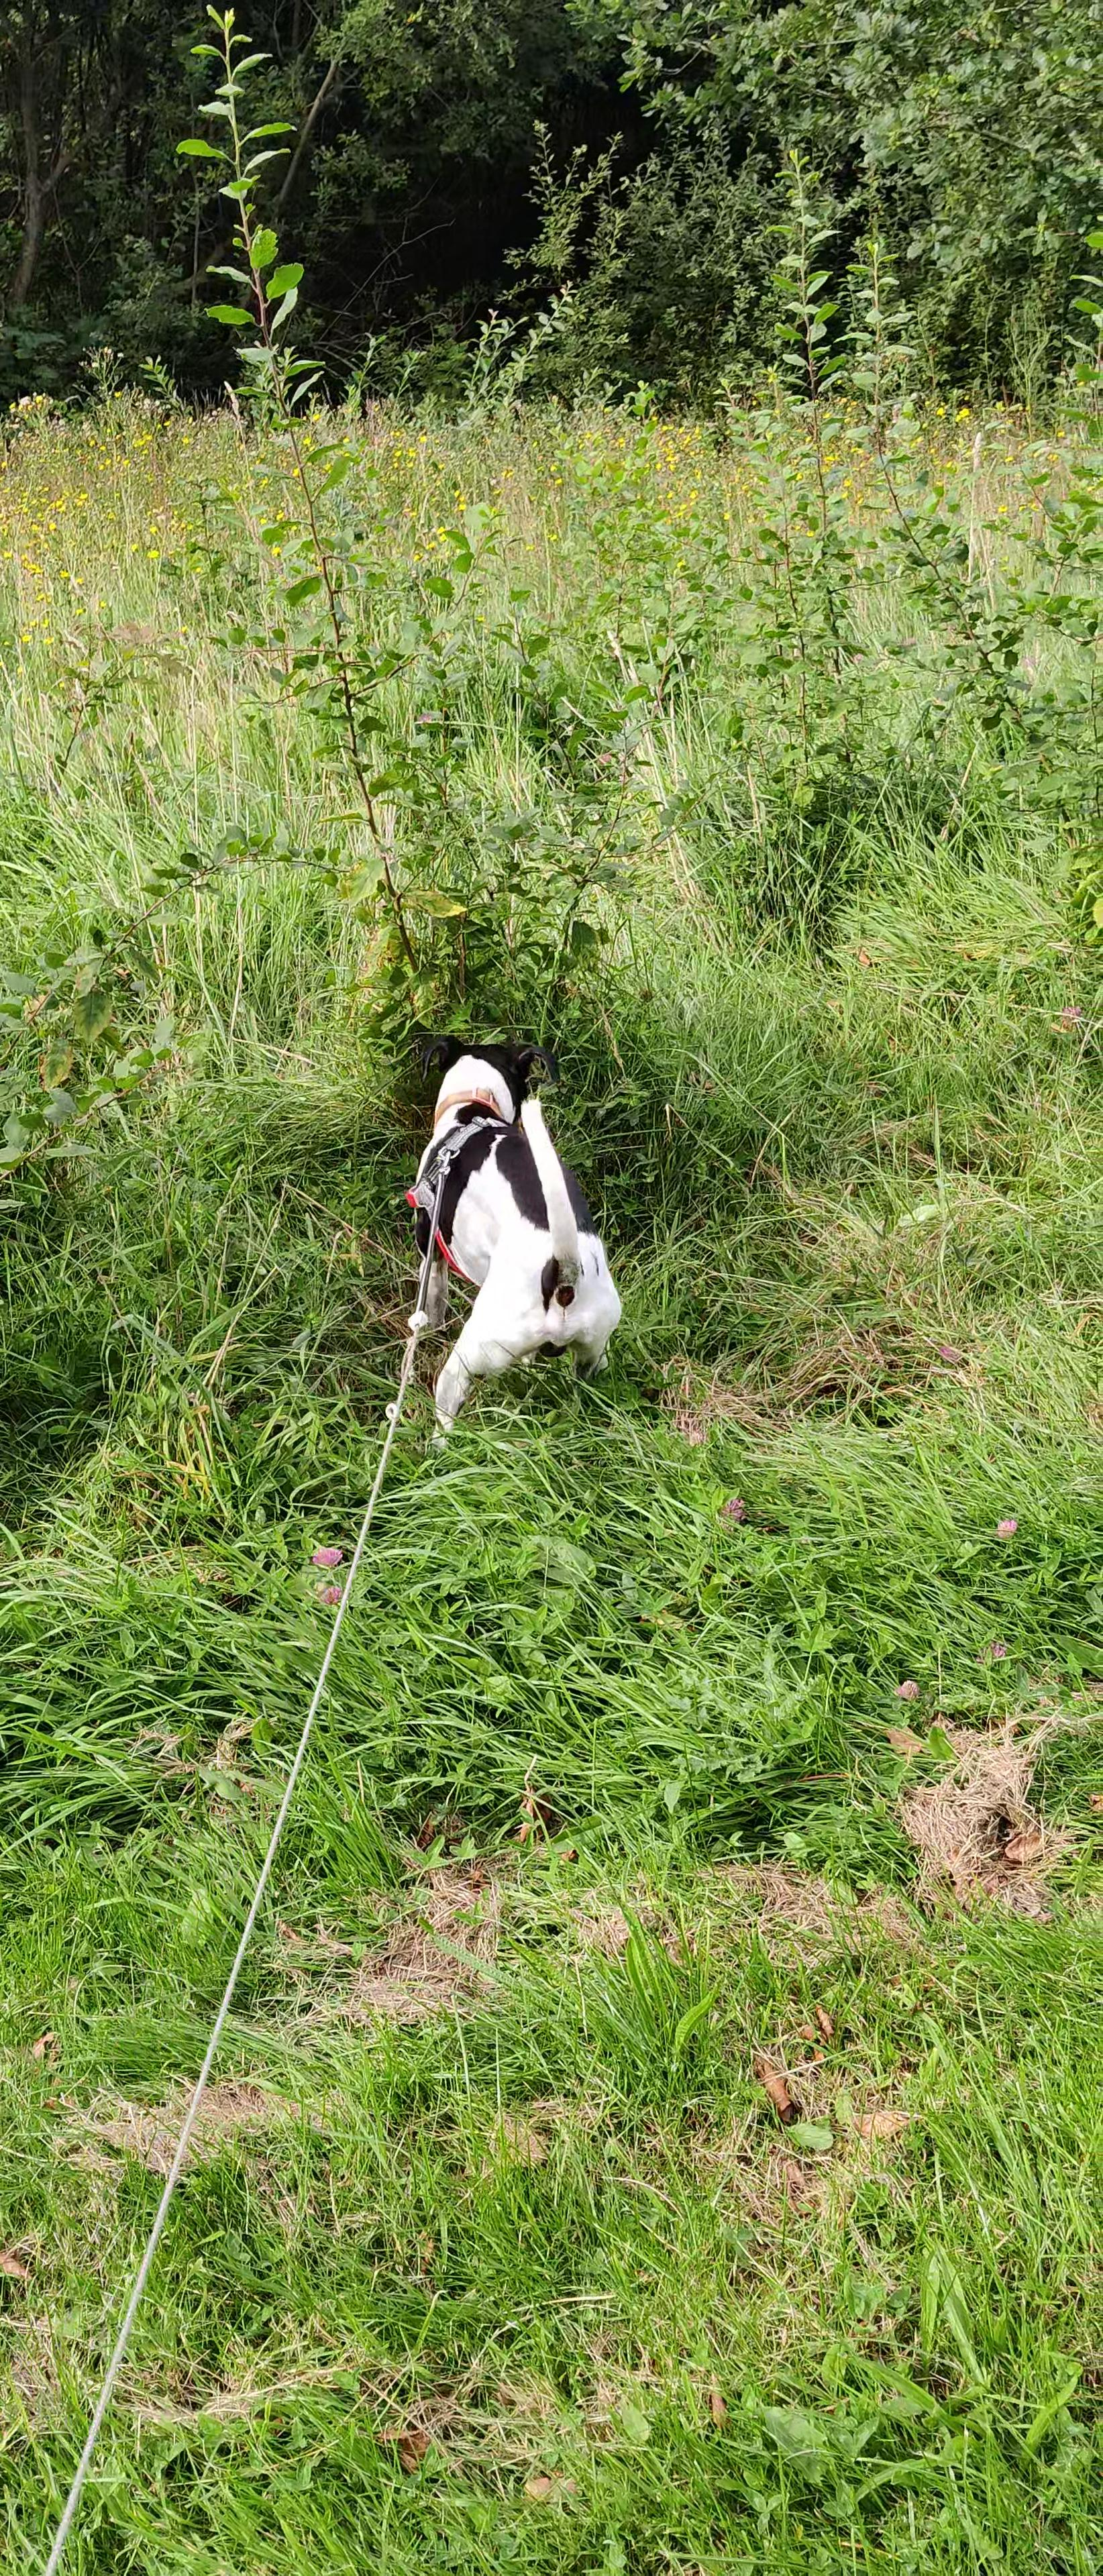Dog: (357, 1010, 653, 1475)
